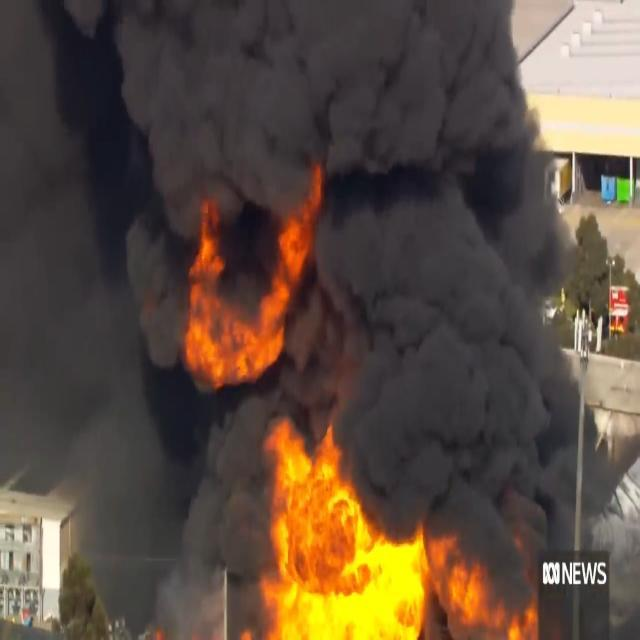fire: (246, 426, 414, 640), (193, 196, 297, 384), (282, 150, 328, 292)
